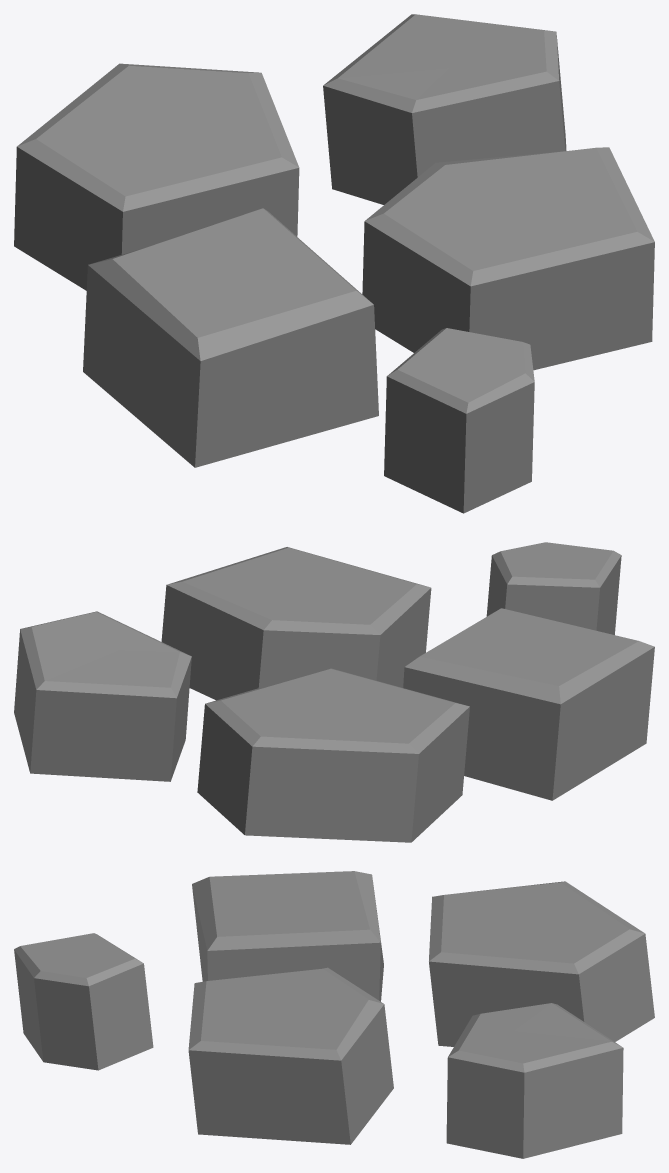
Rendered from Pavement.fbx.
3 views of the same model, one above another, from view 1: azimuth 30°, elevation 25°; view 2: azimuth 150°, elevation 25°; view 3: azimuth 270°, elevation 25° (orthographic). The views are drawn at different scales.
Visible parts, largest first — view 1: Pavement; view 2: Pavement; view 3: Pavement.
Boxes of the visible parts, x1=… form: Pavement: x1=14, y1=14, x2=654, y2=513; Pavement: x1=14, y1=542, x2=654, y2=842; Pavement: x1=14, y1=871, x2=654, y2=1158.
Size of the model in its own units: 122 by 99.52 by 25.8.
